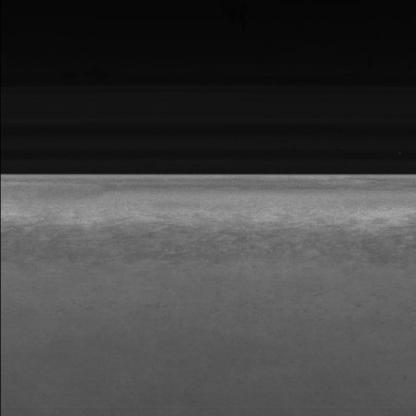silk_spot: (43, 212, 384, 279)
